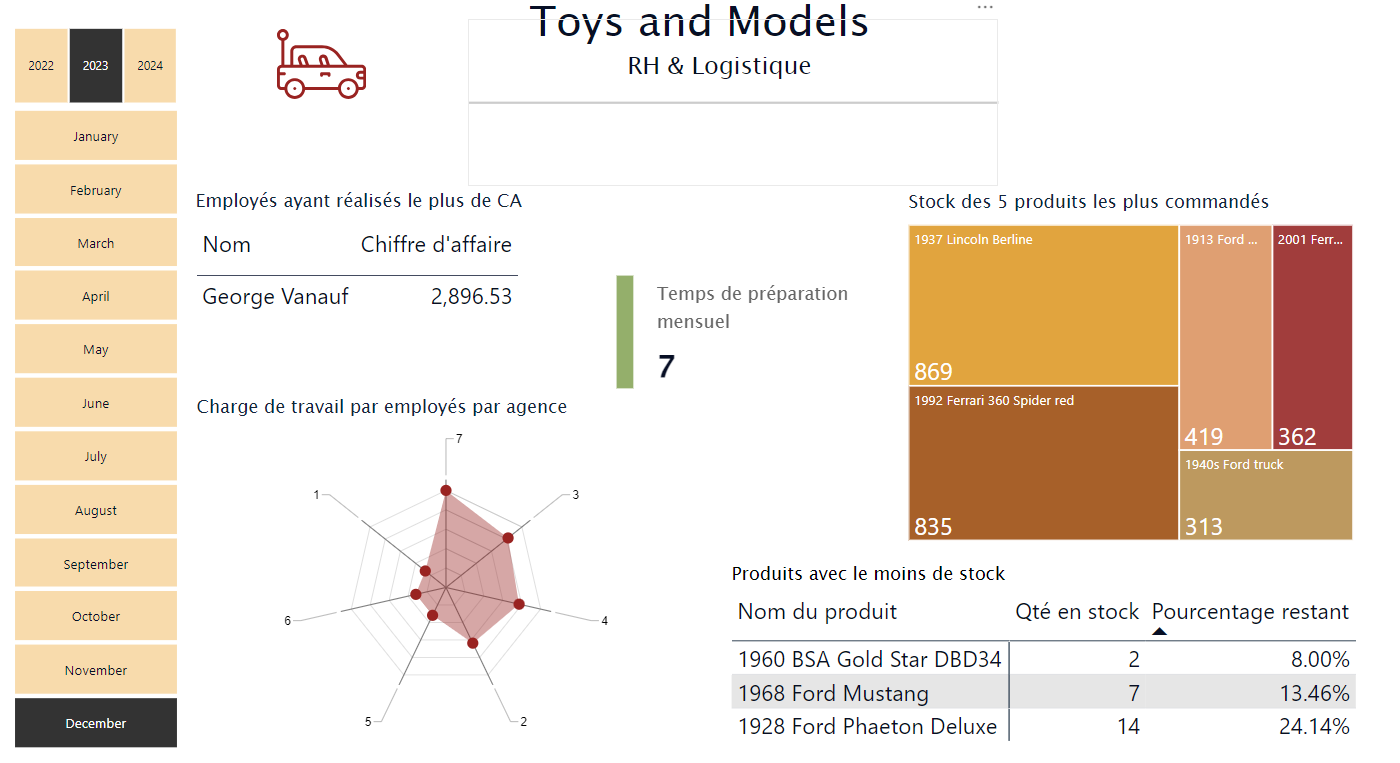

Layout of this report page (visuals, bound fields, positions):
{"tool":"powerbi","page":{"name":"RH & Logistique","canvas":[1280,720],"ordinal":1},"visuals":[{"type":"textbox","box":[481.7,0,376.7,88.3],"z":0},{"type":"slicer","fields":{"Values":["DateTable.Date.Variation.Date Hierarchy.Year"]},"box":[0,38.5,194.3,79.7],"z":1000},{"type":"slicer","fields":{"Values":["DateTable.Date.Variation.Date Hierarchy.Month"]},"box":[0,111.5,194.6,583.9],"z":2000},{"type":"tableEx","title":"Employés ayant réalisés le plus de CA","fields":{"Values":["Meilleurs employés.Prenom_Nom","Meilleurs employés.chiffreDAffaire"]},"box":[182.9,187.1,411.4,185.7],"z":3000},{"type":"RadarChart1446119667547","title":"Charge de travail par employés par agence","fields":{"Category":["Repartition Charge Travail.officeCode"],"Y":["Repartition Charge Travail.nb_cde_per_employe"]},"box":[183.3,371.7,456.7,323.3],"z":4000},{"type":"treemap","title":"Stock des 5 produits les plus commandés","fields":{"Group":["stock produits phares.productName"],"Values":["stock produits phares.quantityInStock"]},"box":[820.9,187.8,408,320.6],"z":5000},{"type":"pivotTable","title":"Produits avec le moins de stock","fields":{"Rows":["Stock.Product Name"],"Values":["Stock.Quantity in stock","Stock.Pourcentage restant"]},"box":[662.3,521.4,604,186.2],"z":6000},{"type":"textbox","box":[528.3,58.3,256.7,60],"z":7000},{"type":"shape","box":[431.7,36.7,475,150],"z":8000},{"type":"pivotTable","fields":{"Values":["CA global.Icone"]},"box":[235.7,0,140,132.9],"z":9000},{"type":"cardVisual","fields":{"Data":["preparation_cde.difference"]},"box":[559.7,261.5,238.2,111],"z":11001}]}

Visuals, with their boxes on the page's 1280x720 design canvas (x1, y1, x2, y2). These are canvas units, not pixel positions in the 1400x763 screenshot, which may show the page scaled, cropped or inside an application window:
textbox: [482, 0, 858, 88]
slicer - DateTable.Date.Variation.Date Hierarchy.Year: [0, 38, 194, 118]
slicer - DateTable.Date.Variation.Date Hierarchy.Month: [0, 112, 195, 695]
"Employés ayant réalisés le plus de CA" tableEx: [183, 187, 594, 373]
"Charge de travail par employés par agence" RadarChart1446119667547: [183, 372, 640, 695]
"Stock des 5 produits les plus commandés" treemap: [821, 188, 1229, 508]
"Produits avec le moins de stock" pivotTable: [662, 521, 1266, 708]
textbox: [528, 58, 785, 118]
shape: [432, 37, 907, 187]
pivotTable - CA global.Icone: [236, 0, 376, 133]
cardVisual - preparation_cde.difference: [560, 262, 798, 372]
